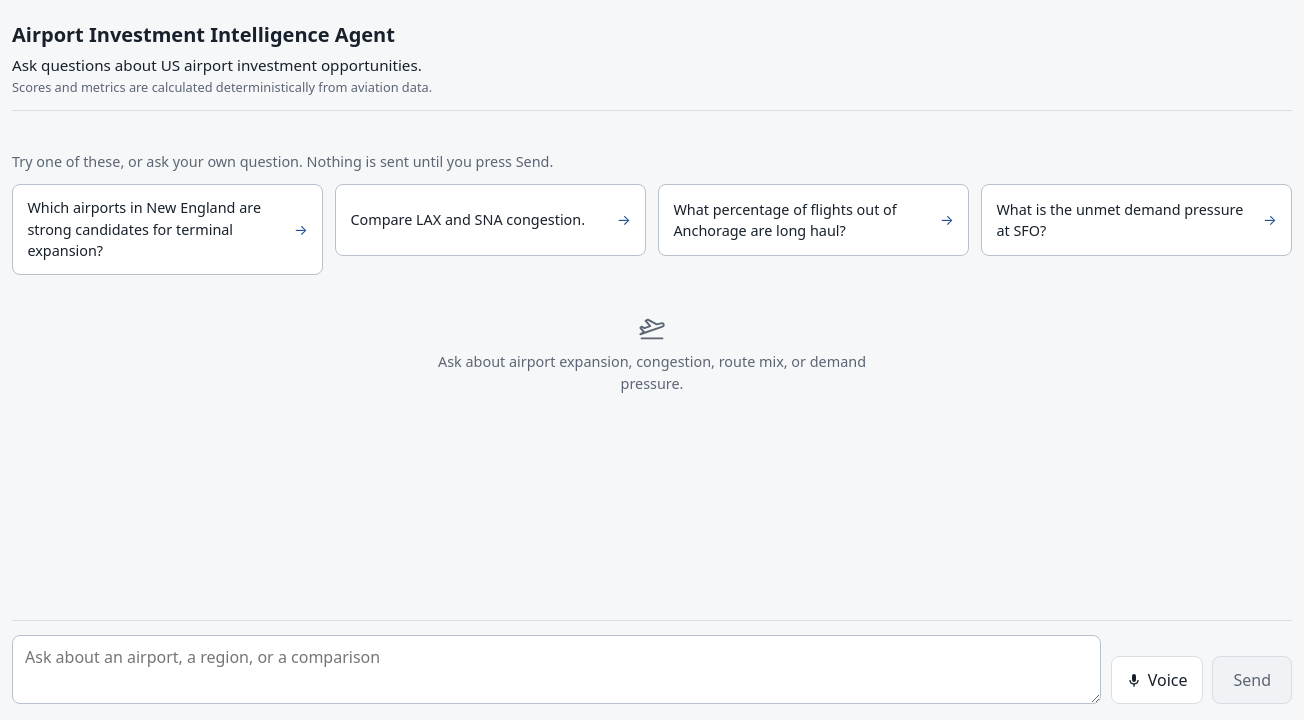
Test: chat › shows a concise message for 504 LLM_TIMEOUT and returns the question to the composer
In the text box named "Your question": [557, 669] box top-left (12, 635), bottom-right (1101, 704), type "Question"
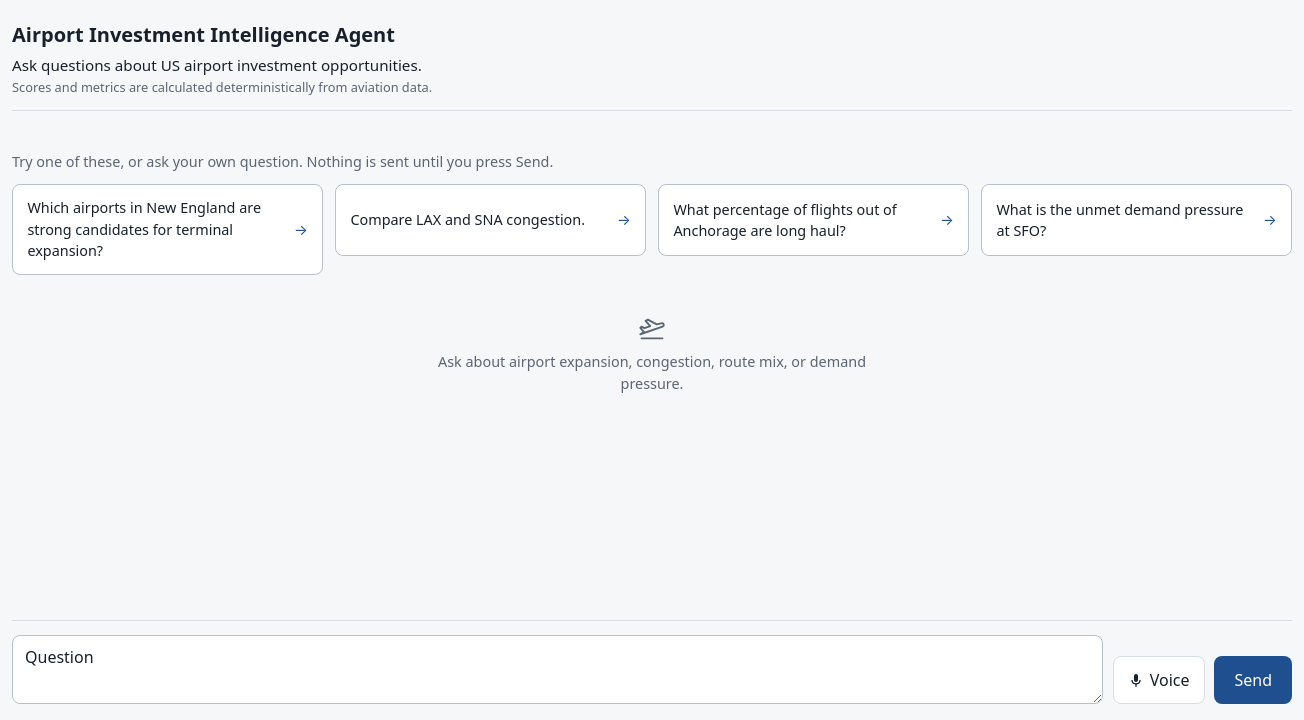
Click the button "Send": [1253, 680] box top-left (1214, 656), bottom-right (1292, 704)
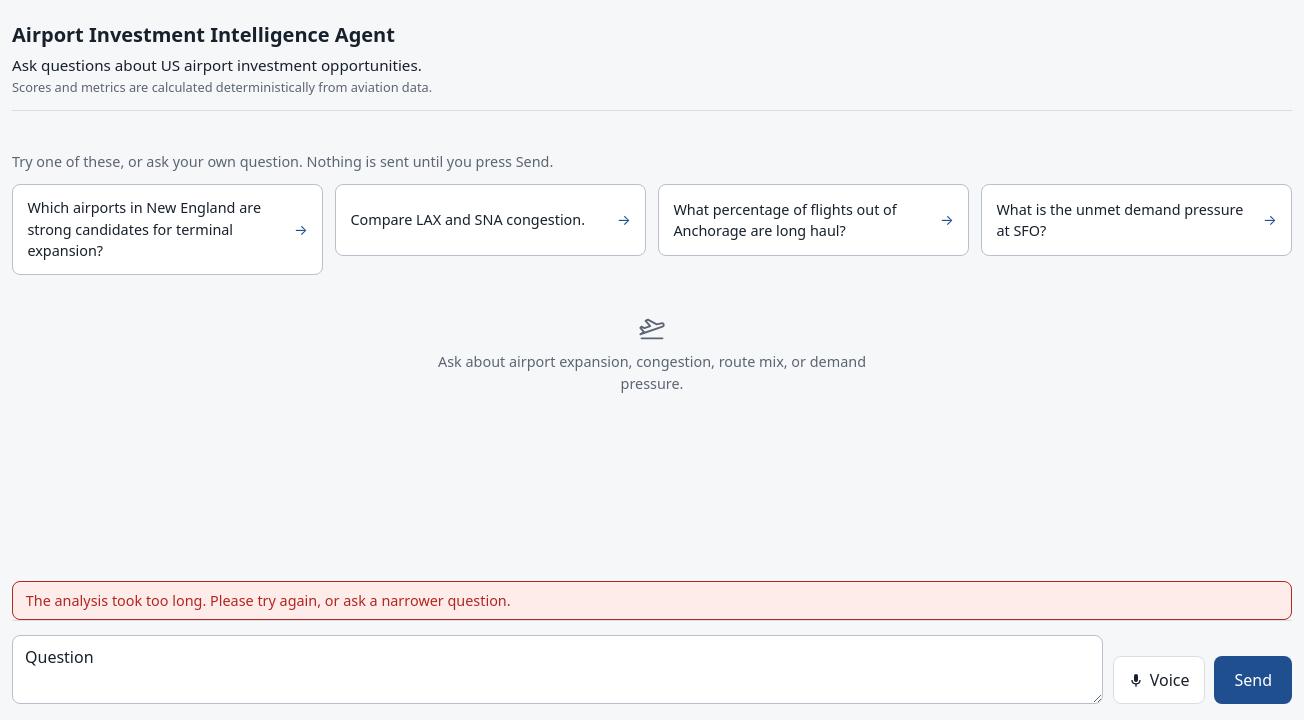
Expected: the message shows "took too long", top-left (26, 591), bottom-right (511, 610)
